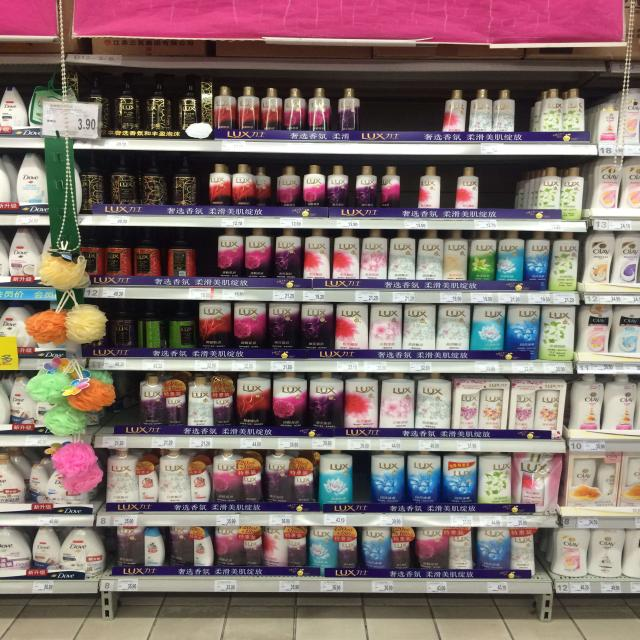empty: (365, 88, 442, 137), (478, 162, 515, 216)
